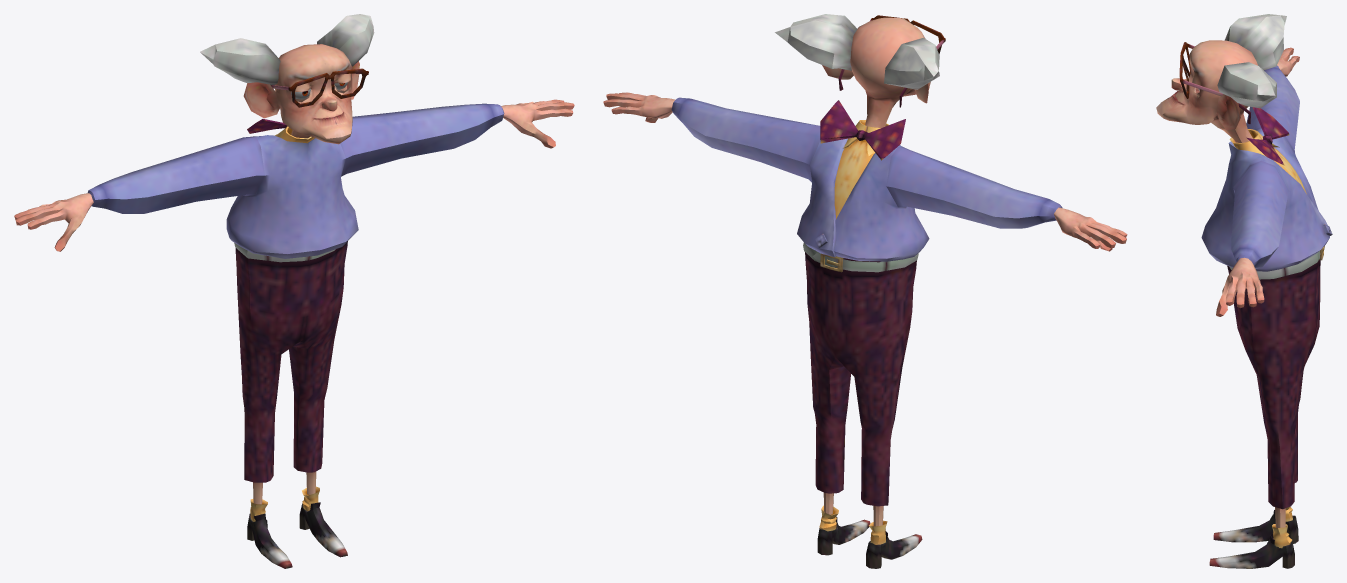
Rendered from grandpa1.fbx.
3 renders of one model, left to right at view 1: azimuth 30°, elevation 25°; view 2: azimuth 150°, elevation 25°; view 3: azimuth 270°, elevation 25°, orthographic.
Parts seen in each view (by area): view 1: Object_2; view 2: Object_2; view 3: Object_2.
Part boxes in pixels (<box>): Object_2: <box>14,14,574,568</box>; Object_2: <box>603,14,1127,568</box>; Object_2: <box>1156,14,1332,568</box>.
Size of the model in its own units: 169 by 155 by 48.49.
Materials: 2 (2 with a texture image).
